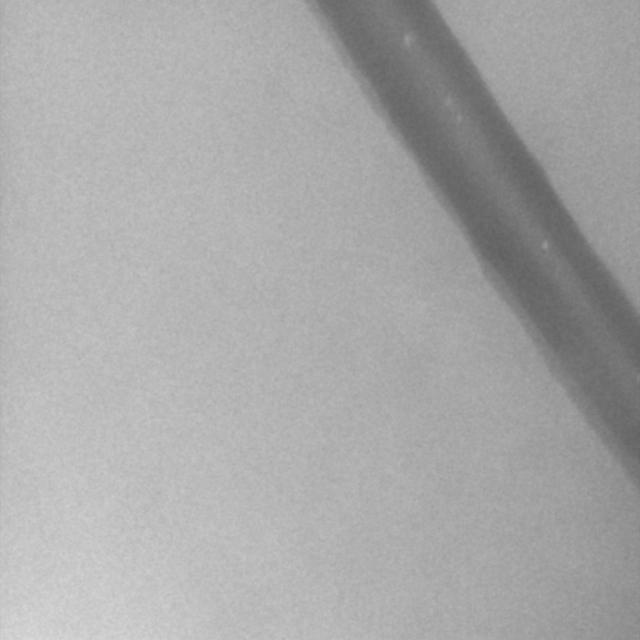air-hole: (401, 30, 417, 46), (456, 112, 464, 126), (446, 96, 454, 105), (542, 239, 548, 247)
